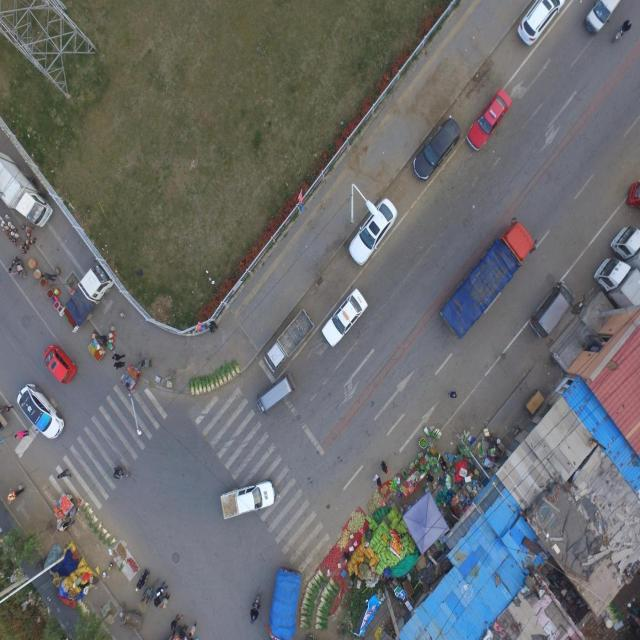p3rson: (6, 488, 25, 502), (154, 580, 167, 596), (58, 518, 75, 530), (170, 613, 180, 631), (154, 591, 165, 607), (40, 271, 56, 281), (57, 468, 71, 479), (160, 592, 170, 607), (178, 624, 188, 638), (380, 460, 390, 474), (66, 506, 79, 516), (188, 621, 196, 636), (14, 430, 29, 438), (438, 455, 446, 470), (209, 320, 218, 333), (98, 334, 106, 348), (425, 472, 434, 484), (113, 361, 126, 369), (0, 405, 13, 413), (373, 474, 381, 487), (111, 352, 125, 359), (141, 358, 151, 367), (448, 389, 458, 398), (113, 469, 123, 478)
